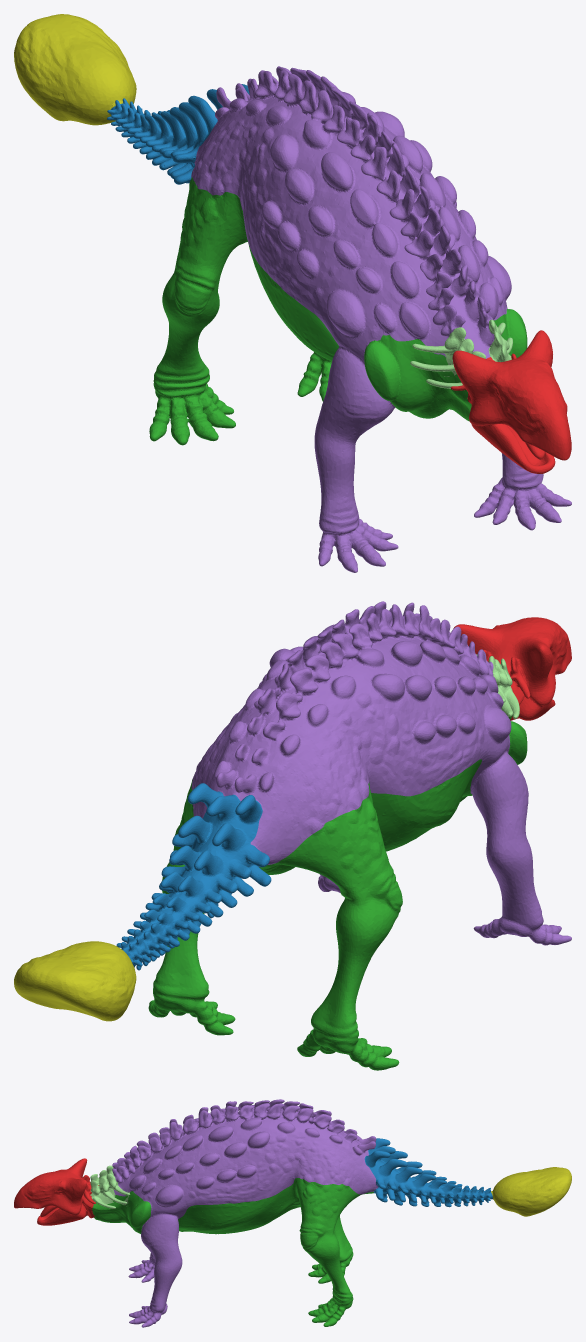
Rendered from SubdividedModelAnkilosauru.glb.
3 renders of one model, top to bottom at view 1: azimuth 30°, elevation 25°; view 2: azimuth 150°, elevation 25°; view 3: azimuth 270°, elevation 25°, orthographic. The views are drawn at different scales.
Visible parts, largest first — view 1: model_part6, model_part5, model_part3, model_part0, model_part4, model_part2, model_part1; view 2: model_part6, model_part5, model_part4, model_part0, model_part3, model_part2; view 3: model_part6, model_part5, model_part4, model_part3, model_part0, model_part1.
Boxes of the visible parts, left/top/right/bottom form: model_part6: left=191, top=66, right=571, bottom=572; model_part5: left=149, top=177, right=527, bottom=445; model_part3: left=451, top=330, right=571, bottom=473; model_part0: left=14, top=14, right=136, bottom=125; model_part4: left=107, top=84, right=249, bottom=184; model_part2: left=410, top=327, right=485, bottom=388; model_part1: left=488, top=319, right=512, bottom=362; model_part6: left=191, top=601, right=571, bottom=945; model_part5: left=148, top=715, right=527, bottom=1070; model_part4: left=116, top=783, right=271, bottom=970; model_part0: left=14, top=941, right=136, bottom=1021; model_part3: left=453, top=617, right=571, bottom=720; model_part2: left=488, top=656, right=519, bottom=718; model_part6: left=112, top=1099, right=378, bottom=1327; model_part5: left=92, top=1178, right=373, bottom=1326; model_part4: left=364, top=1138, right=492, bottom=1207; model_part3: left=14, top=1158, right=98, bottom=1225; model_part0: left=491, top=1167, right=571, bottom=1216; model_part1: left=90, top=1173, right=130, bottom=1208.
Bounding box in the file's own units: 0.0334 × 0.0466 × 0.12.
